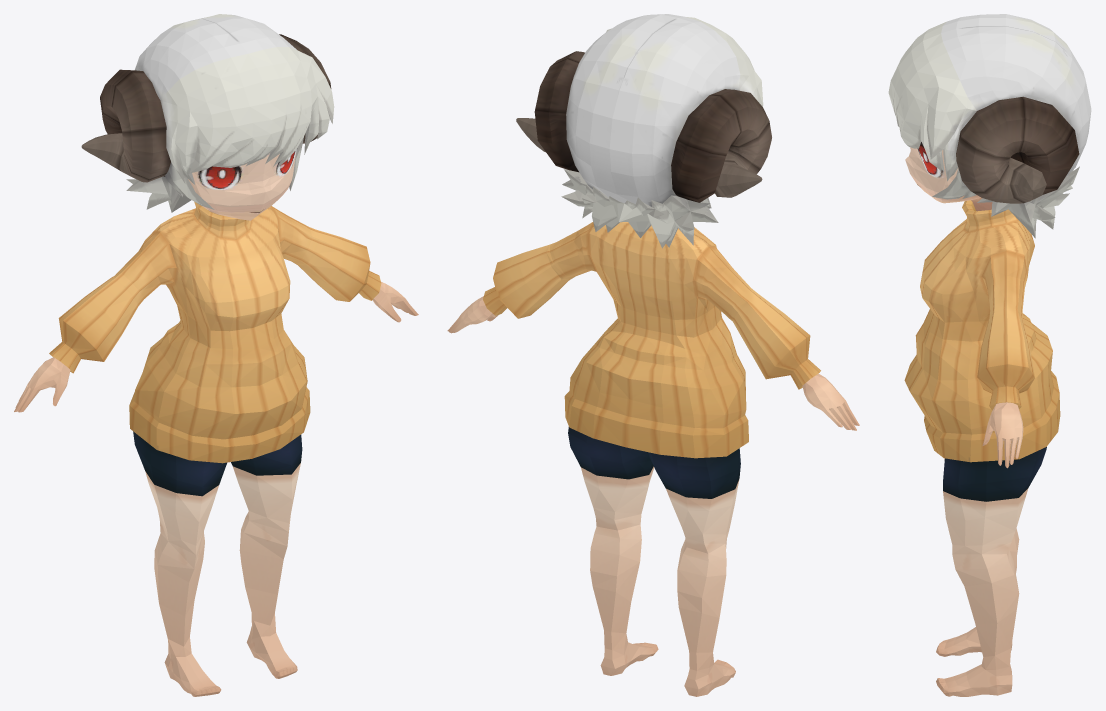
File: nano_persona_q.glb
The picture shows the model from 3 angles, left to right: view 1: azimuth 30°, elevation 25°; view 2: azimuth 150°, elevation 25°; view 3: azimuth 270°, elevation 25°; orthographic projection.
Parts seen in each view (by area): view 1: Nano; view 2: Nano; view 3: Nano.
Part boxes in pixels (<box>): Nano: <box>14,14,418,696</box>; Nano: <box>447,14,859,696</box>; Nano: <box>888,14,1091,696</box>.
Size of the model in its own units: 84.8 by 129 by 36.78.
4 materials, 4 textured.
